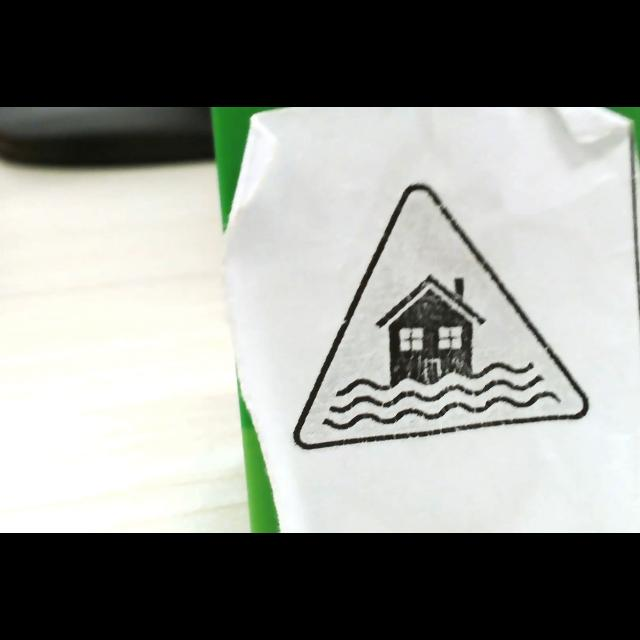Tsunami: (294, 184, 589, 450)
